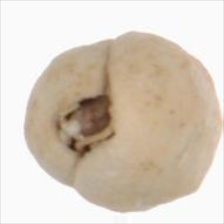L3: (51, 81, 116, 163)
L4: (23, 31, 221, 212)
